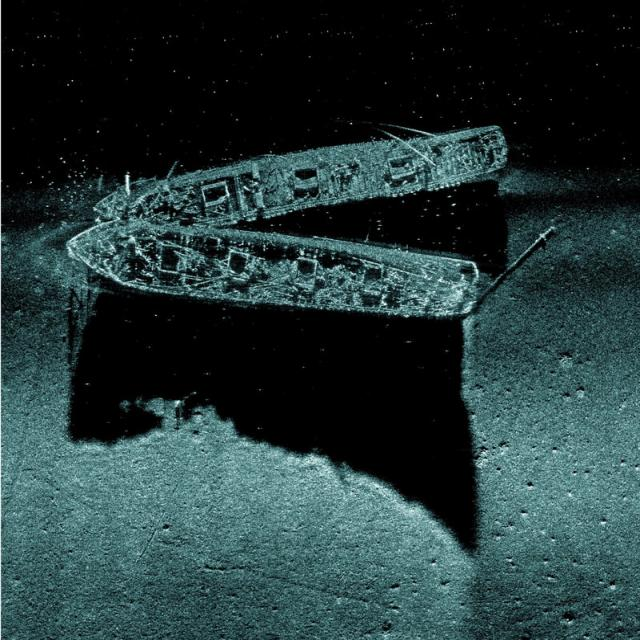ship: (66, 213, 484, 328), (89, 124, 514, 224)
